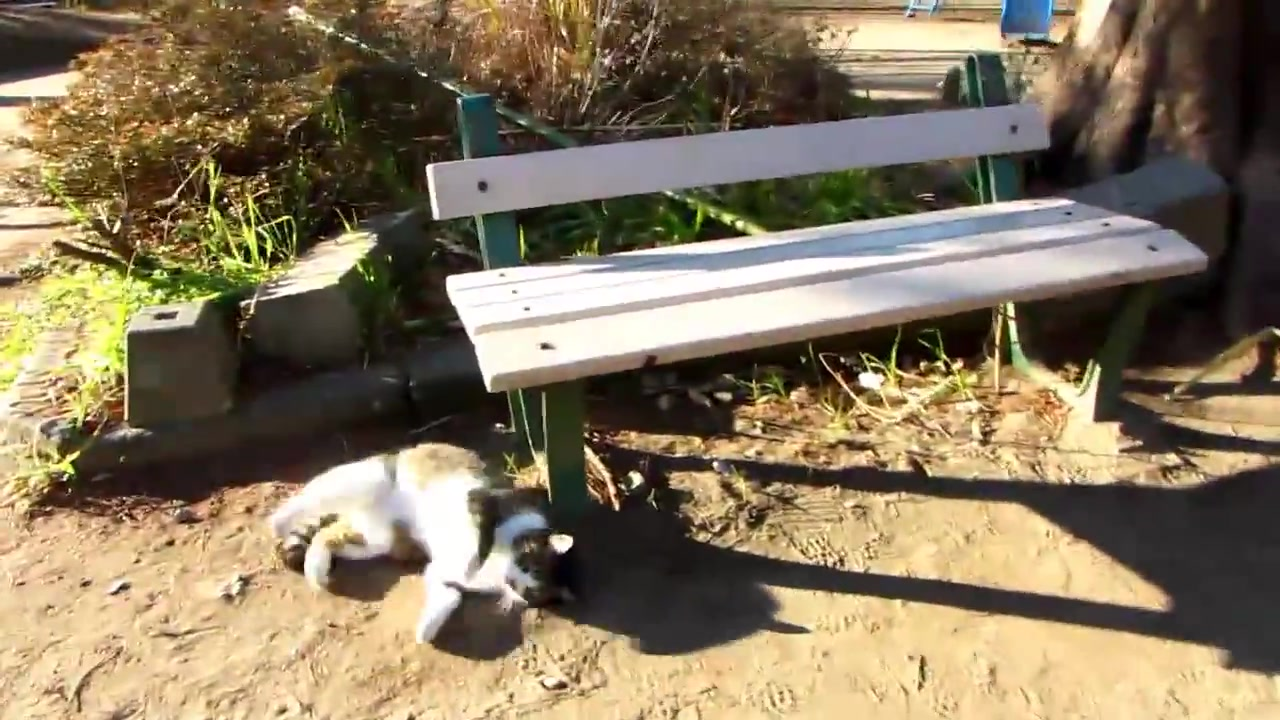cat: (266, 440, 577, 645)
